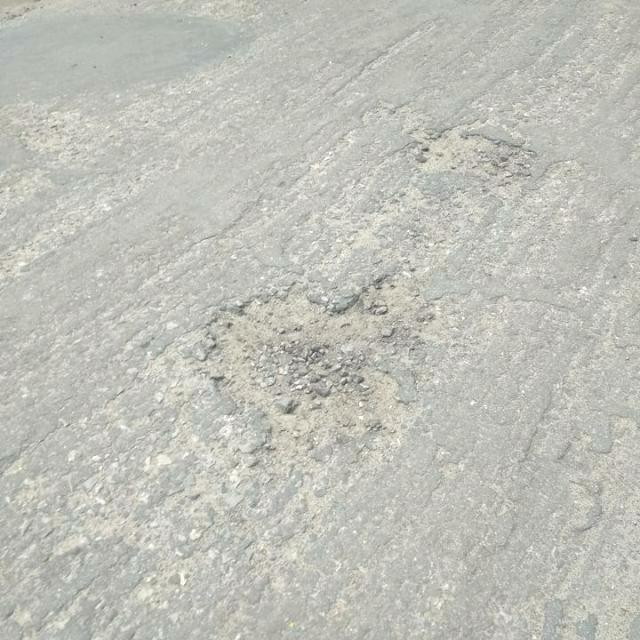Pothole: (204, 268, 428, 465), (412, 119, 543, 184)
